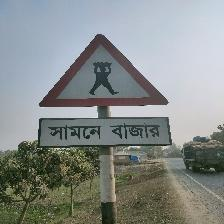Market-in-front: (37, 33, 172, 147)
